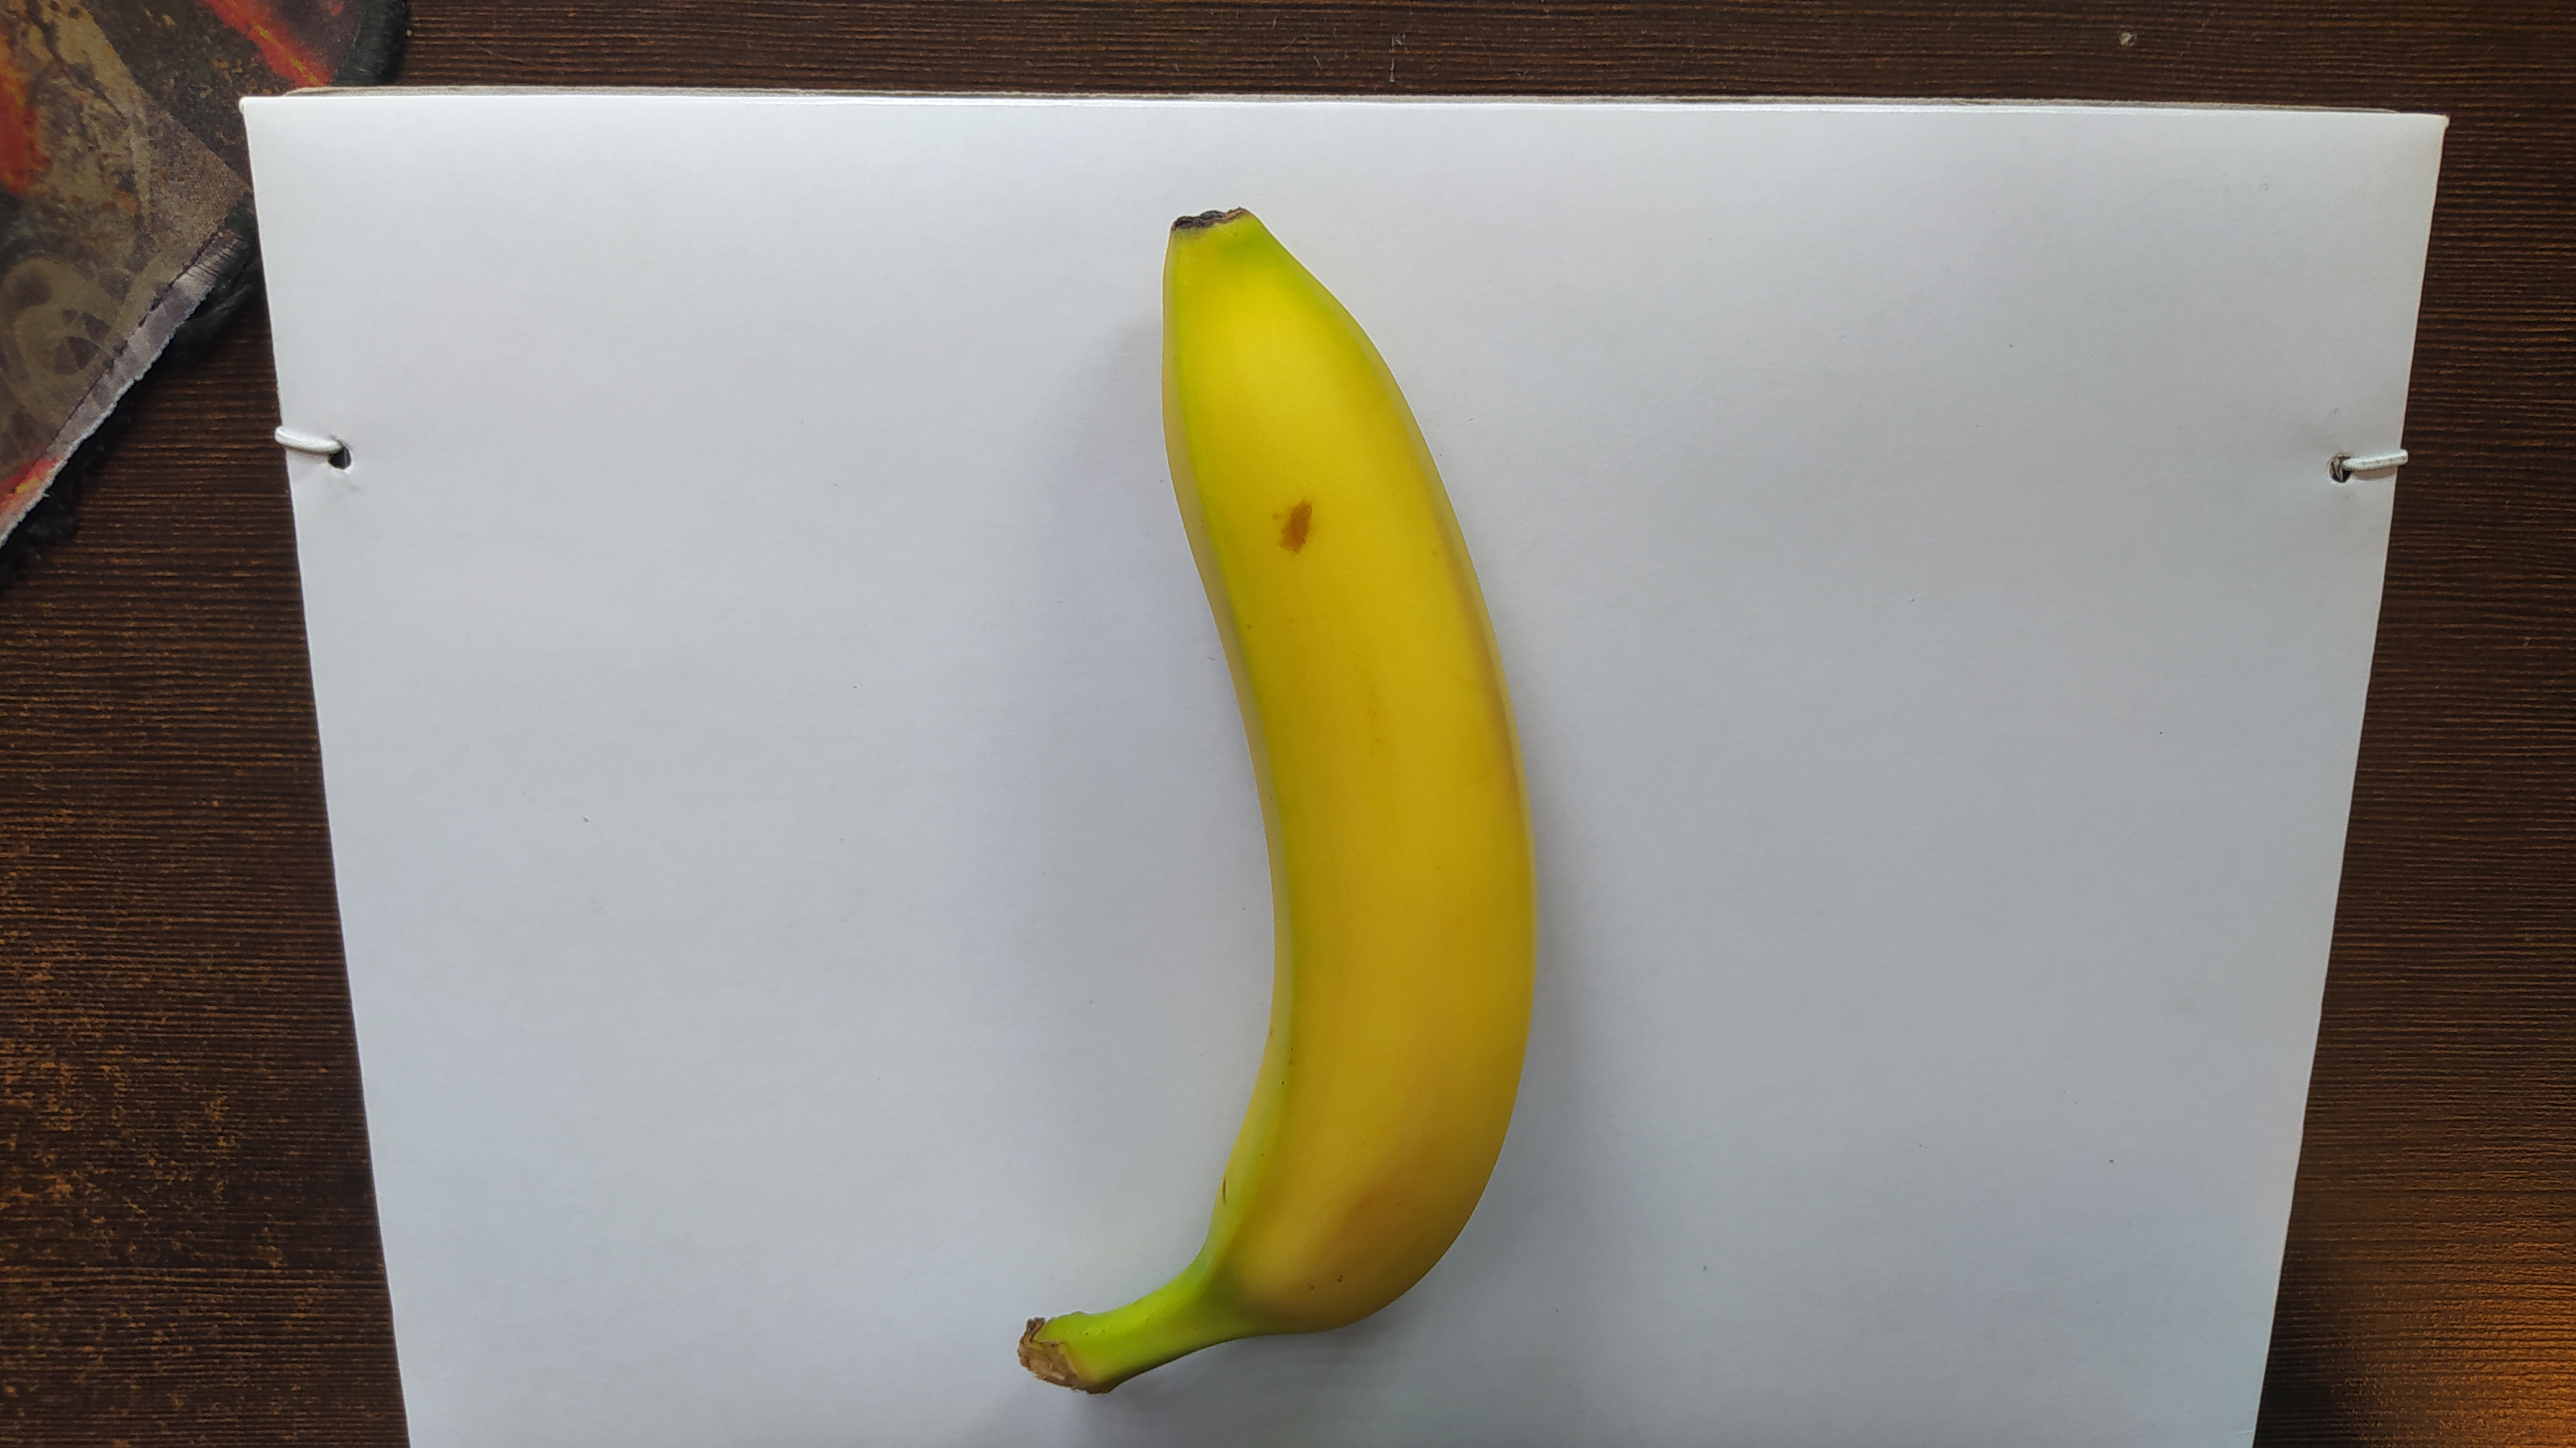banana: (1017, 207, 1543, 1395)
